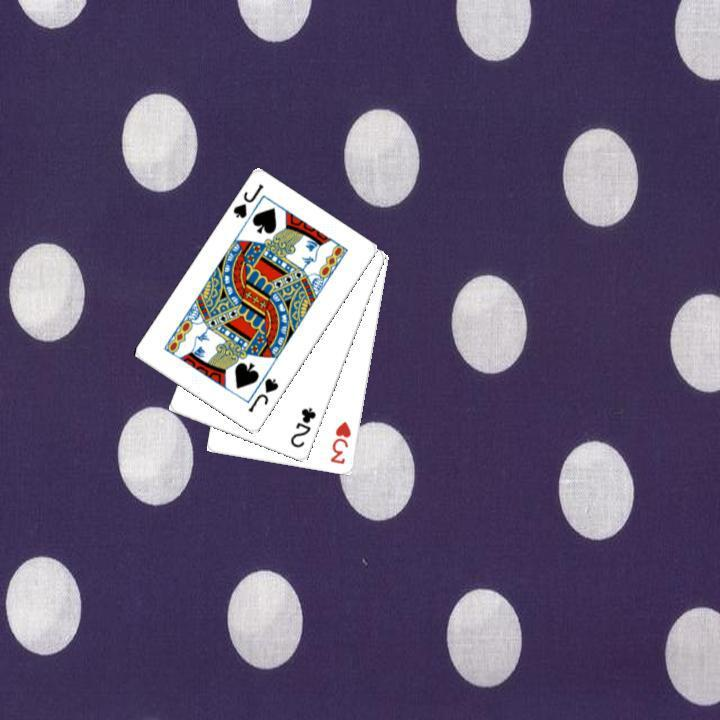2: (286, 403, 318, 450)
3: (326, 417, 353, 466)
J: (228, 180, 266, 221), (244, 374, 281, 415)
